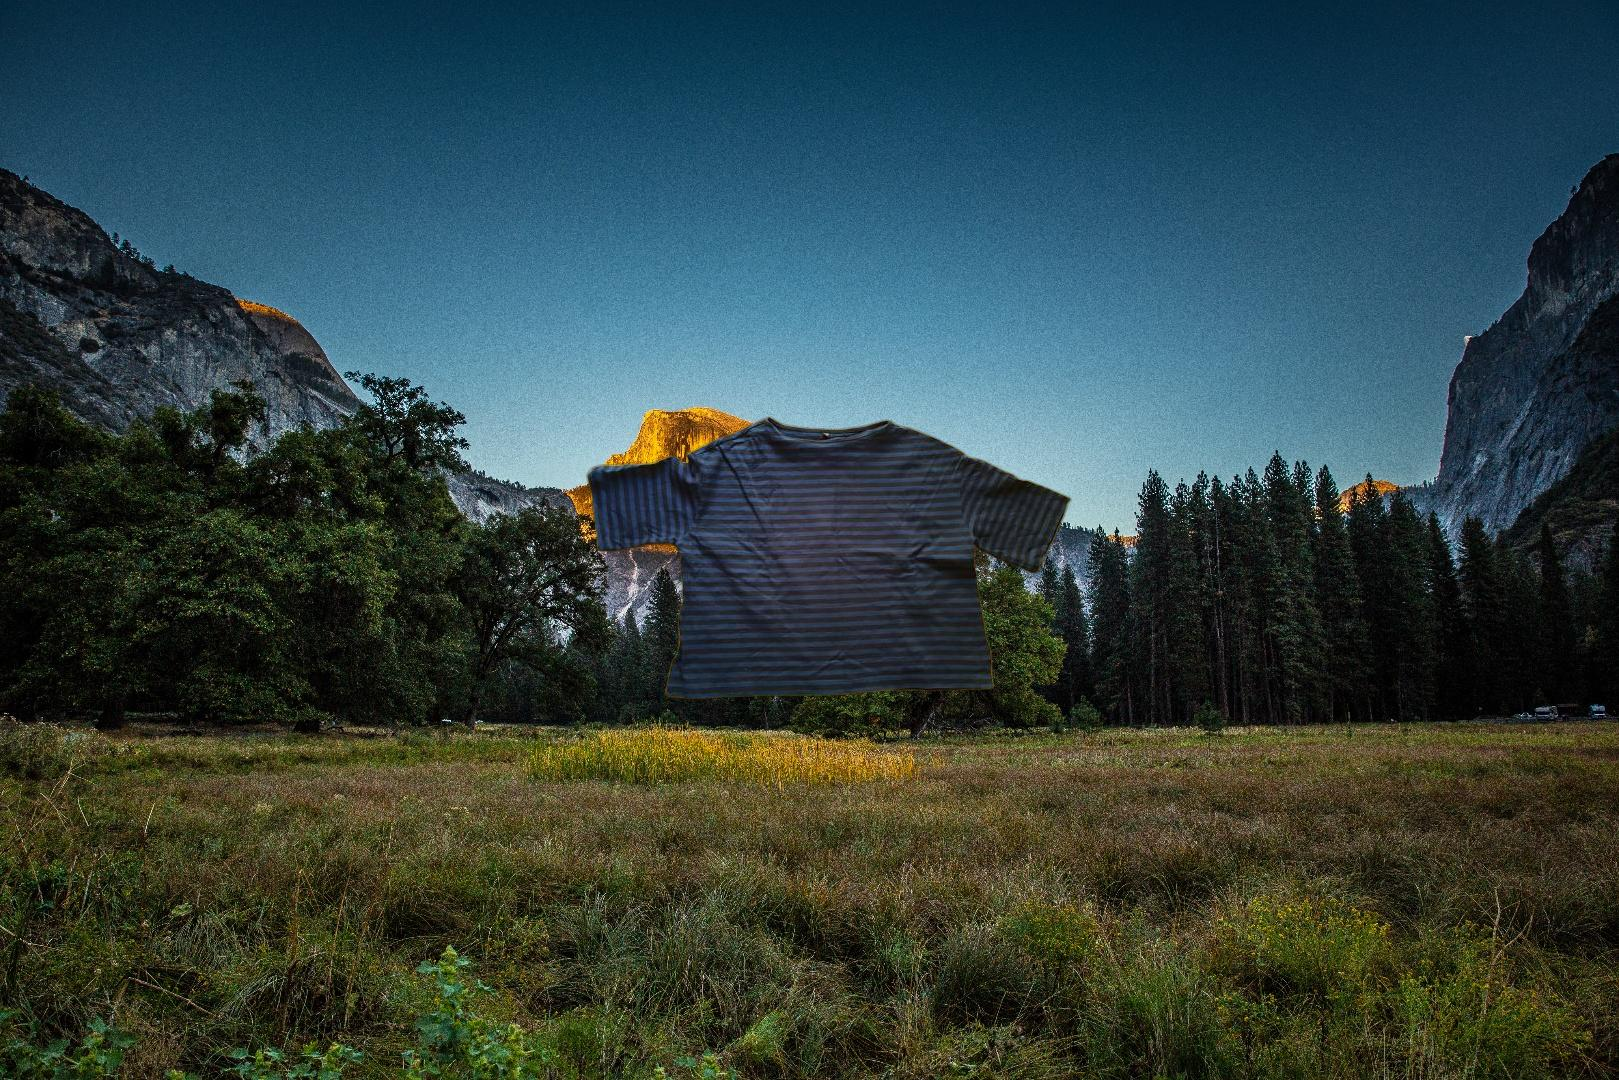clothes: (581, 413, 1075, 702)
